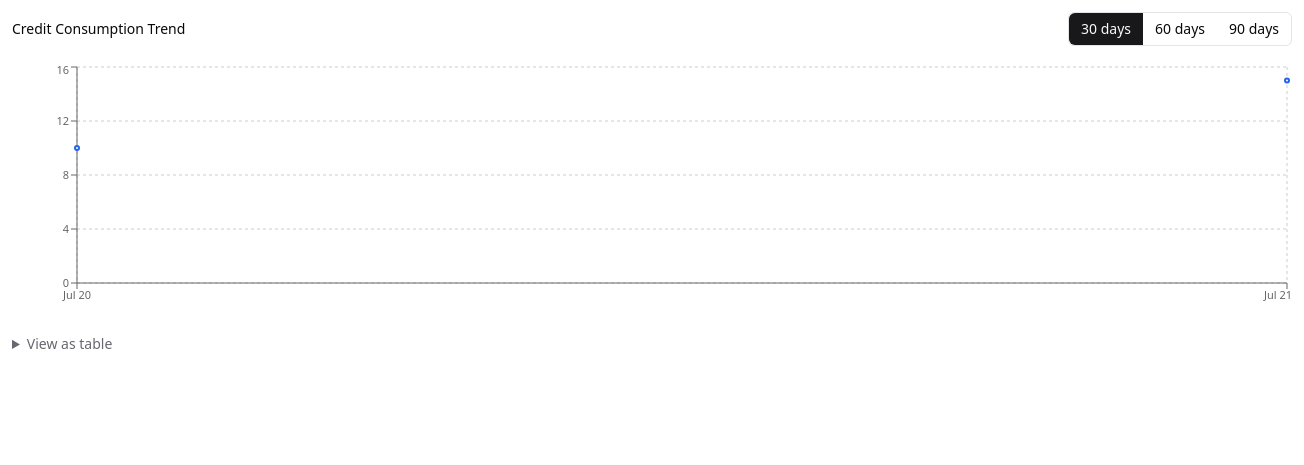
Test: ConsumptionTrendChart › renders the chart and a keyboard-navigable table alternative with the same data
The image size is (1304, 465).
Click the heading "View as table" at (70, 344), box [27,334,112,353]
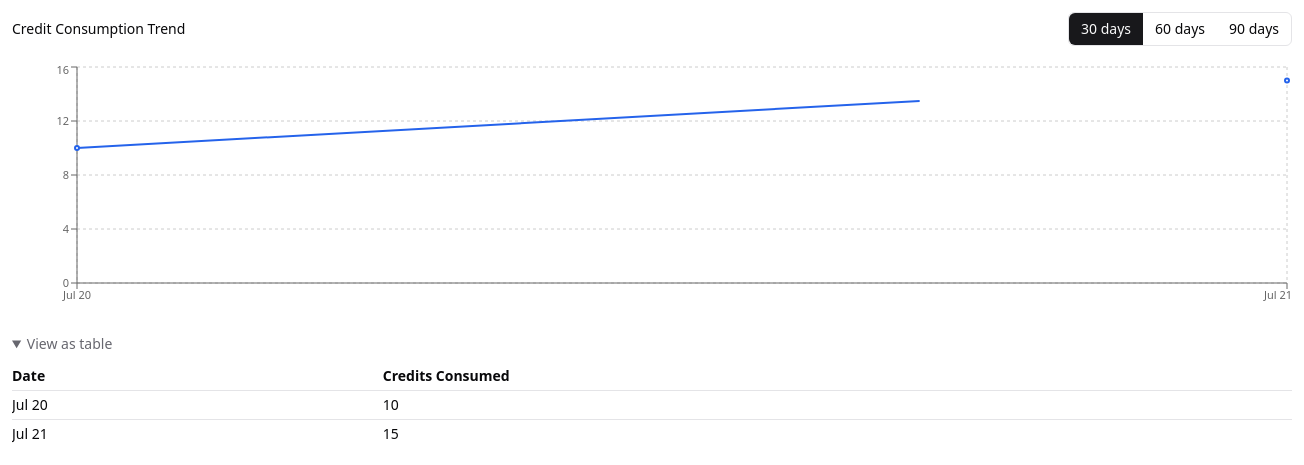
Result: the text "10" is shown once at [383,390,1292,420]
Result: the text "15" is shown once at [383,420,1292,448]
